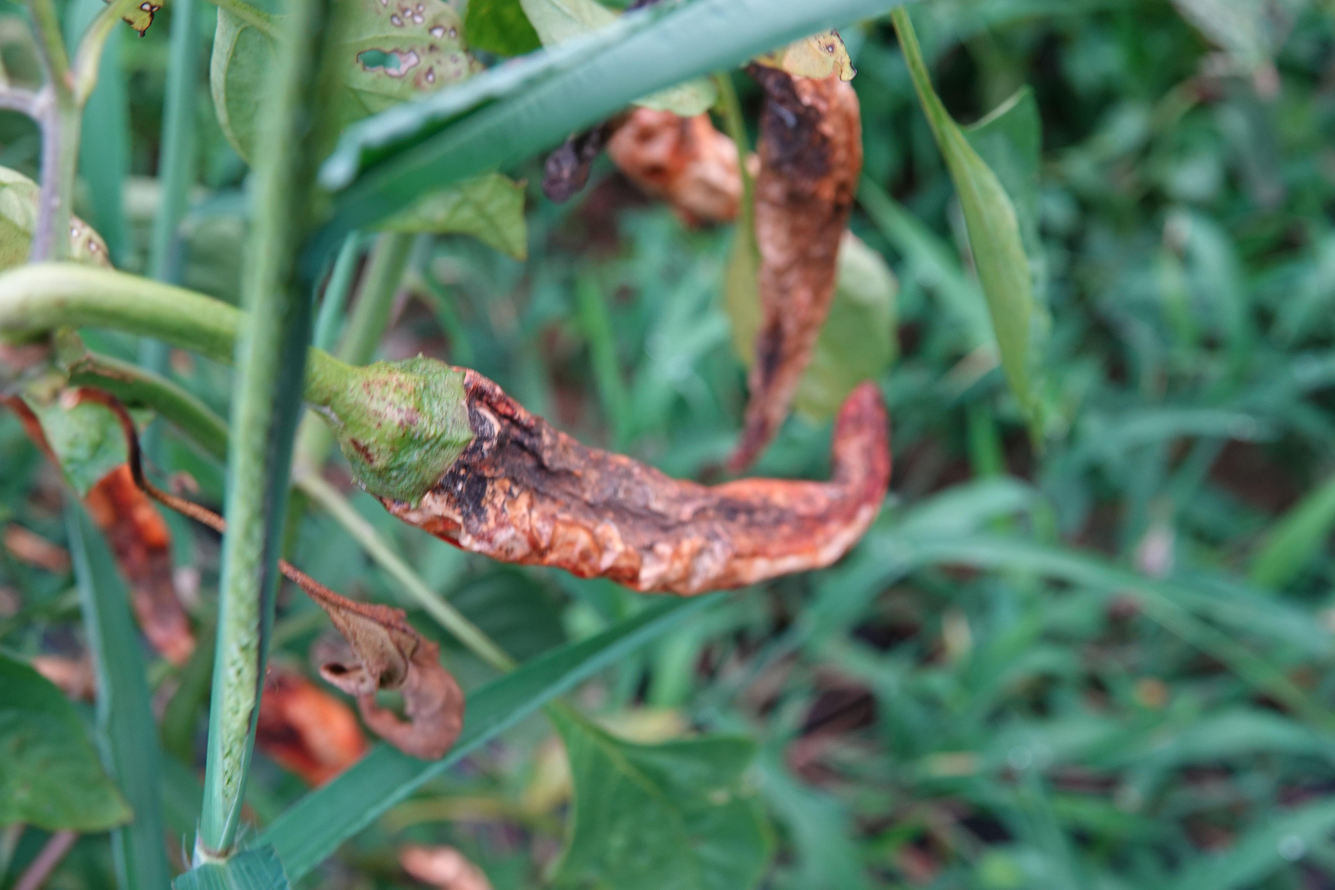Busuk Buah Antraknosa: (337, 353, 903, 605)
